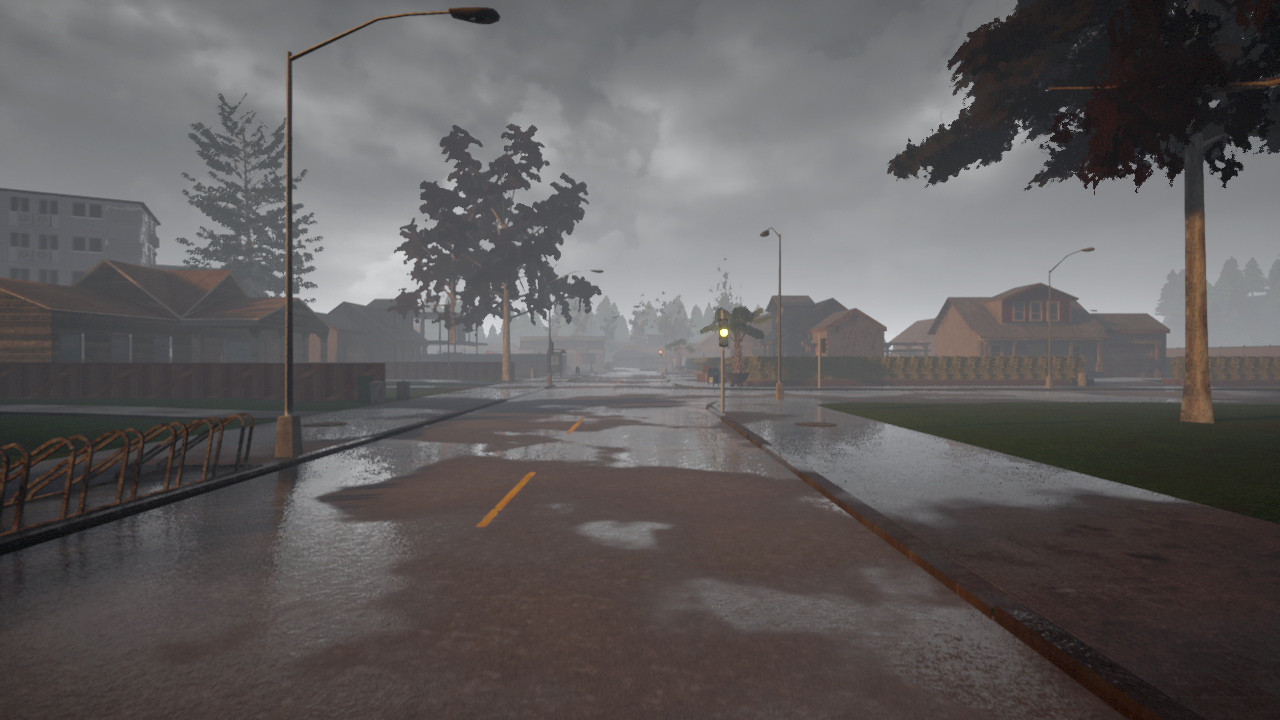yellow: (718, 317, 728, 346)
